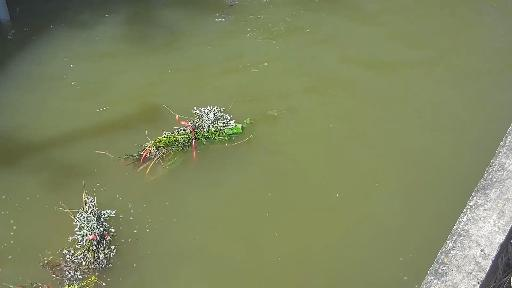twig: (107, 94, 257, 171), (41, 187, 130, 272), (3, 275, 123, 288)
